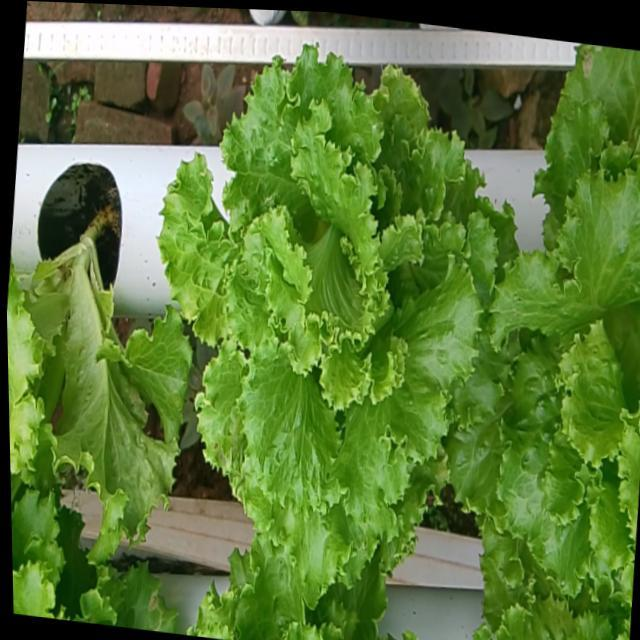Mature: (151, 28, 489, 574), (441, 145, 640, 583)
